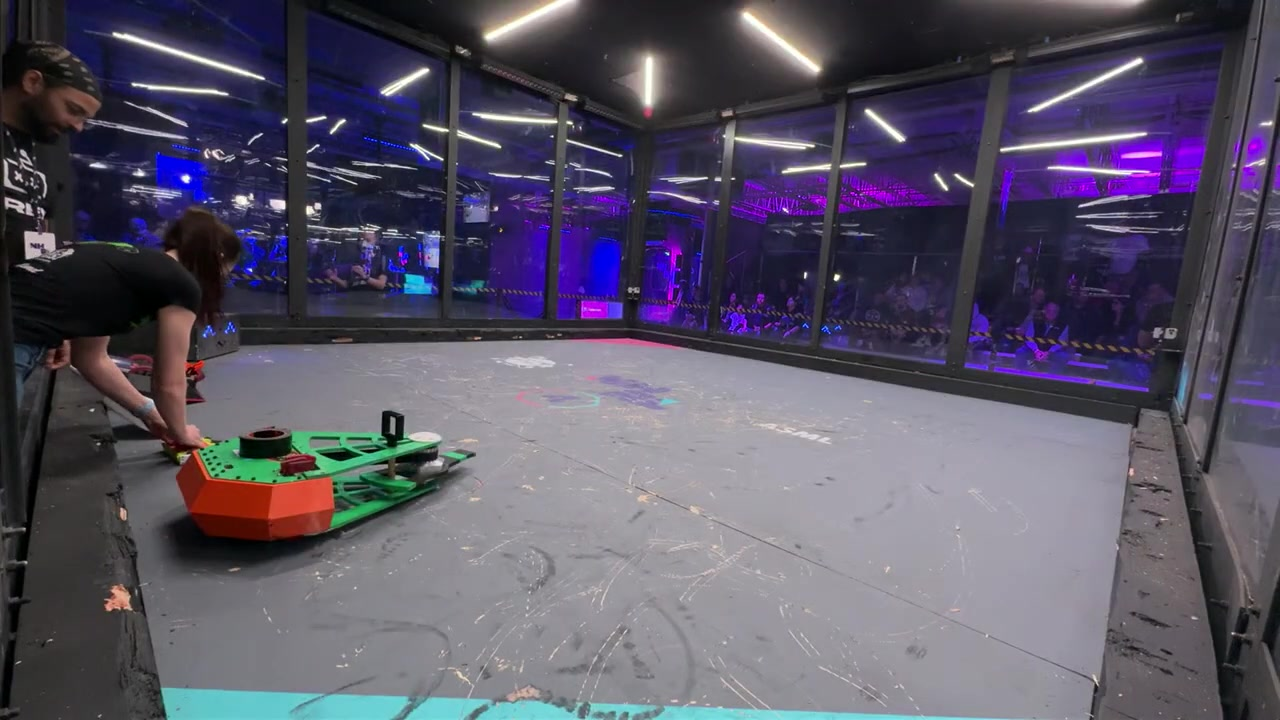combatbot: (176, 430, 438, 543)
housebot: (189, 314, 241, 362)
wheel: (239, 425, 294, 457)
